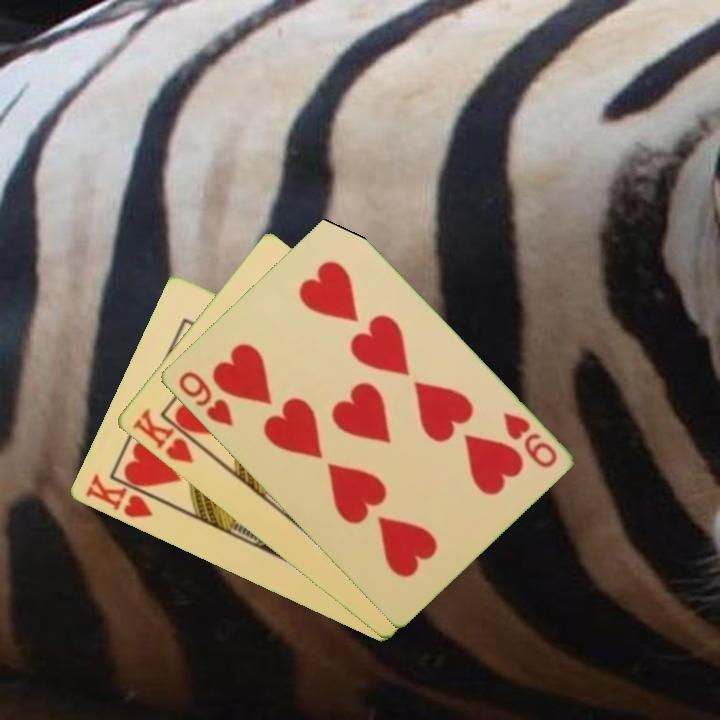9h: (174, 367, 236, 429), (499, 409, 560, 472)
Kh: (128, 405, 208, 467), (81, 471, 166, 521)
